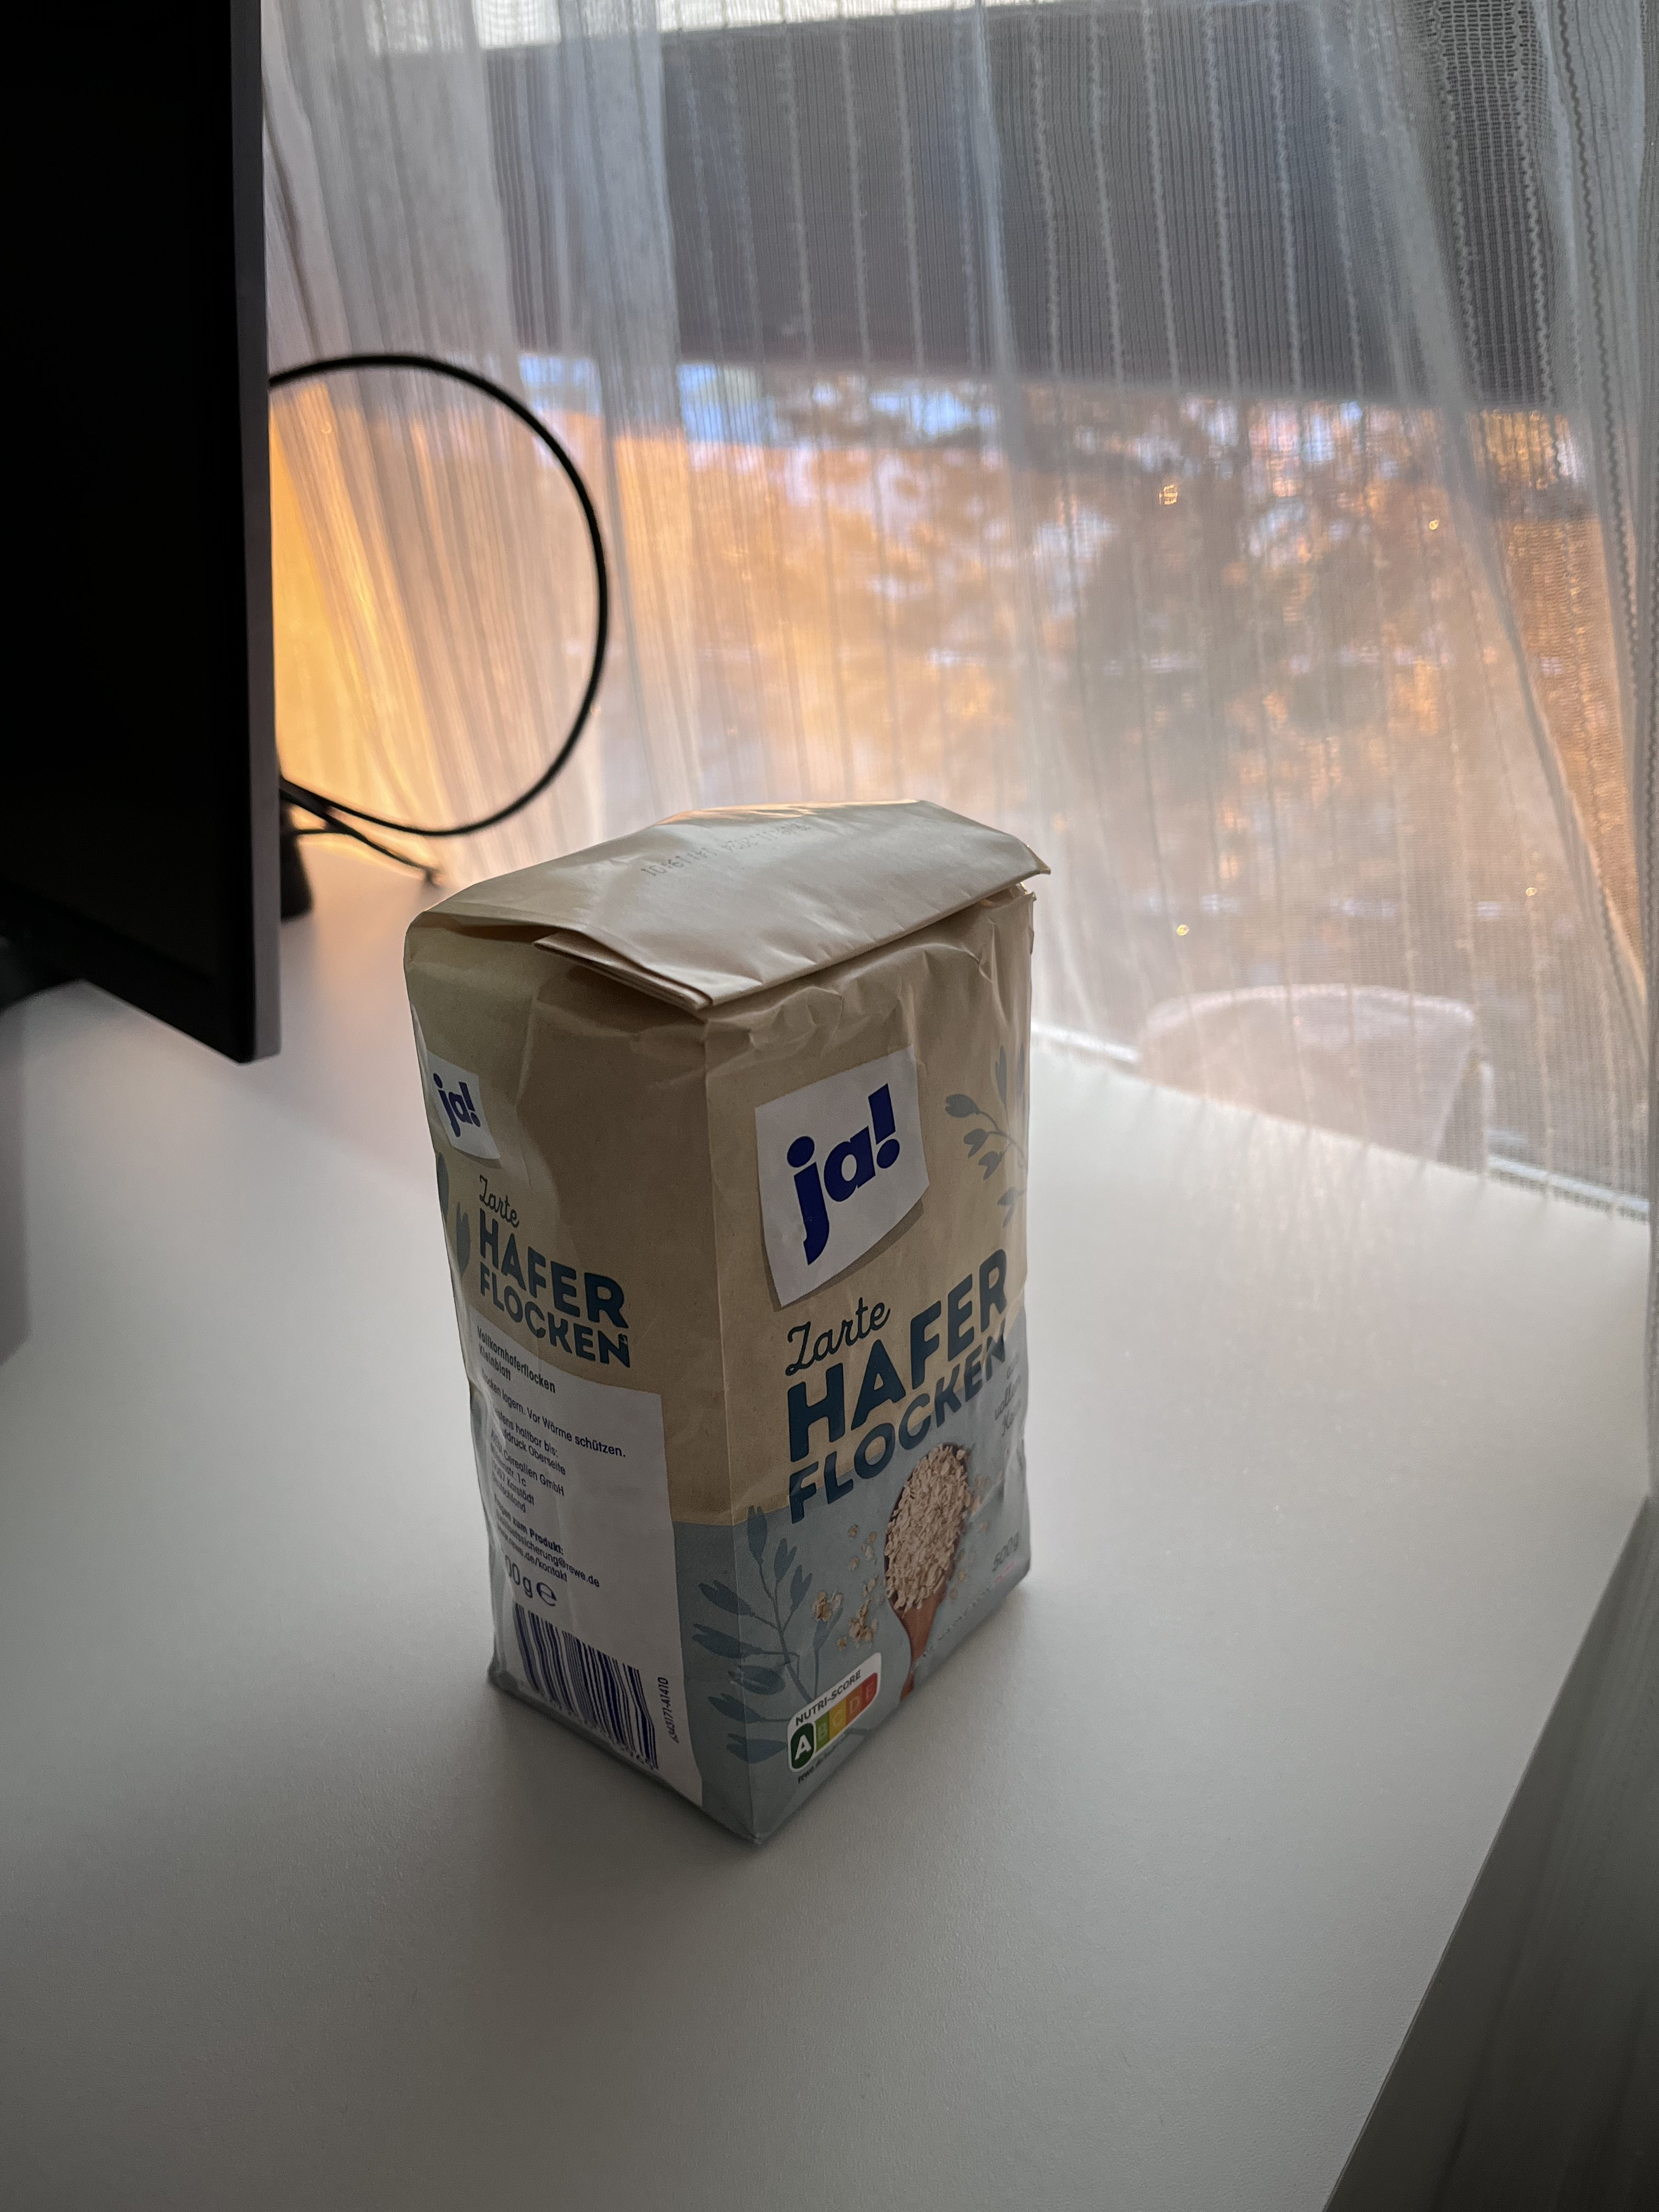haferflocken_ja: (401, 794, 1044, 1850)
